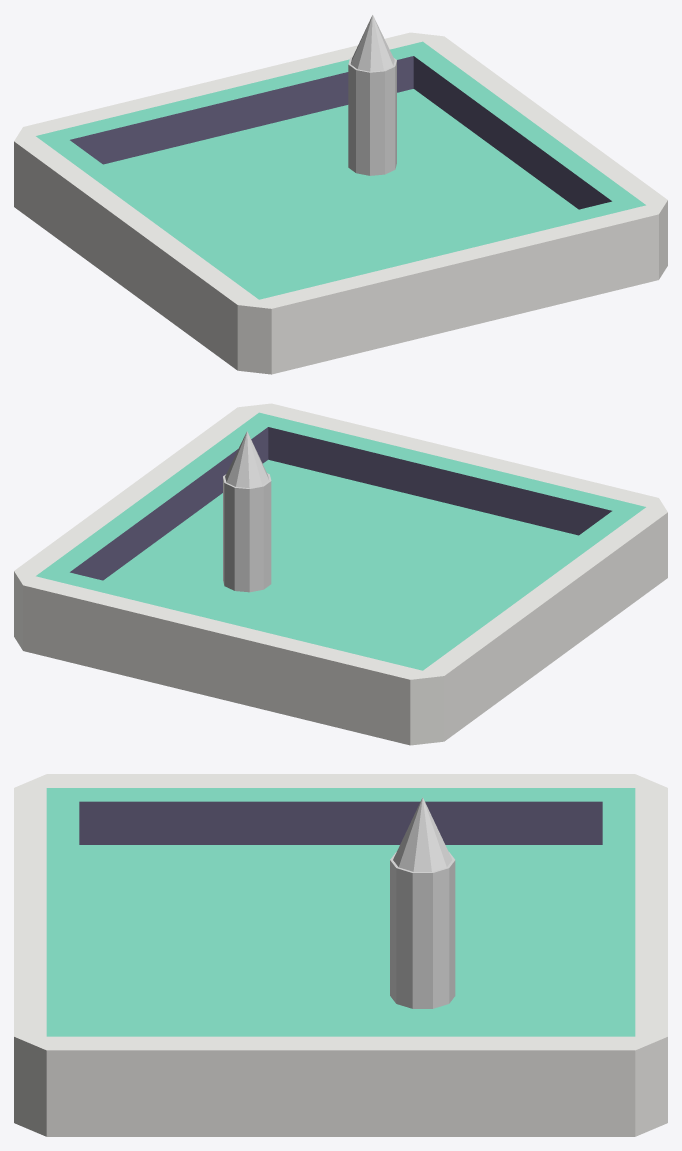
The model's file is depot.glb.
3 views of the same model, one above another, from view 1: azimuth 30°, elevation 25°; view 2: azimuth 150°, elevation 25°; view 3: azimuth 270°, elevation 25° (orthographic). The views are drawn at different scales.
Parts seen in each view (by area): view 1: platform_large, rocket_body, rocket_nose; view 2: platform_large, rocket_body, rocket_nose; view 3: platform_large, rocket_body, rocket_nose.
Part boxes in pixels (<box>): platform_large: <box>14,32,667,374</box>; rocket_body: <box>348,57,396,175</box>; rocket_nose: <box>350,15,394,71</box>; platform_large: <box>14,403,667,745</box>; rocket_body: <box>223,473,271,592</box>; rocket_nose: <box>225,431,269,488</box>; platform_large: <box>14,774,667,1136</box>; rocket_body: <box>390,852,455,1008</box>; rocket_nose: <box>393,797,452,871</box>.
Bounding box in the file's own units: 2.4 × 0.99 × 2.4.
